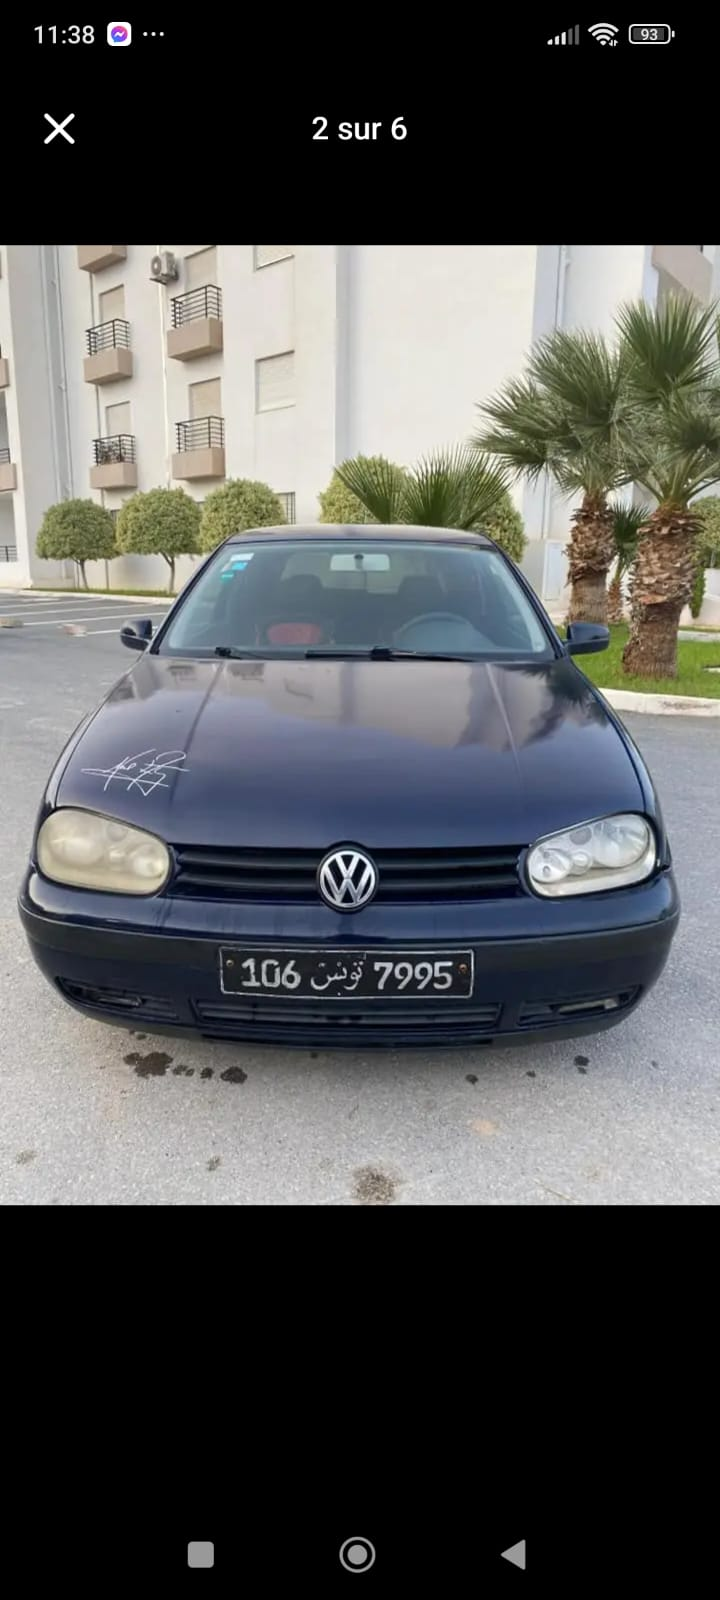volkswagen: (14, 519, 680, 1074)
